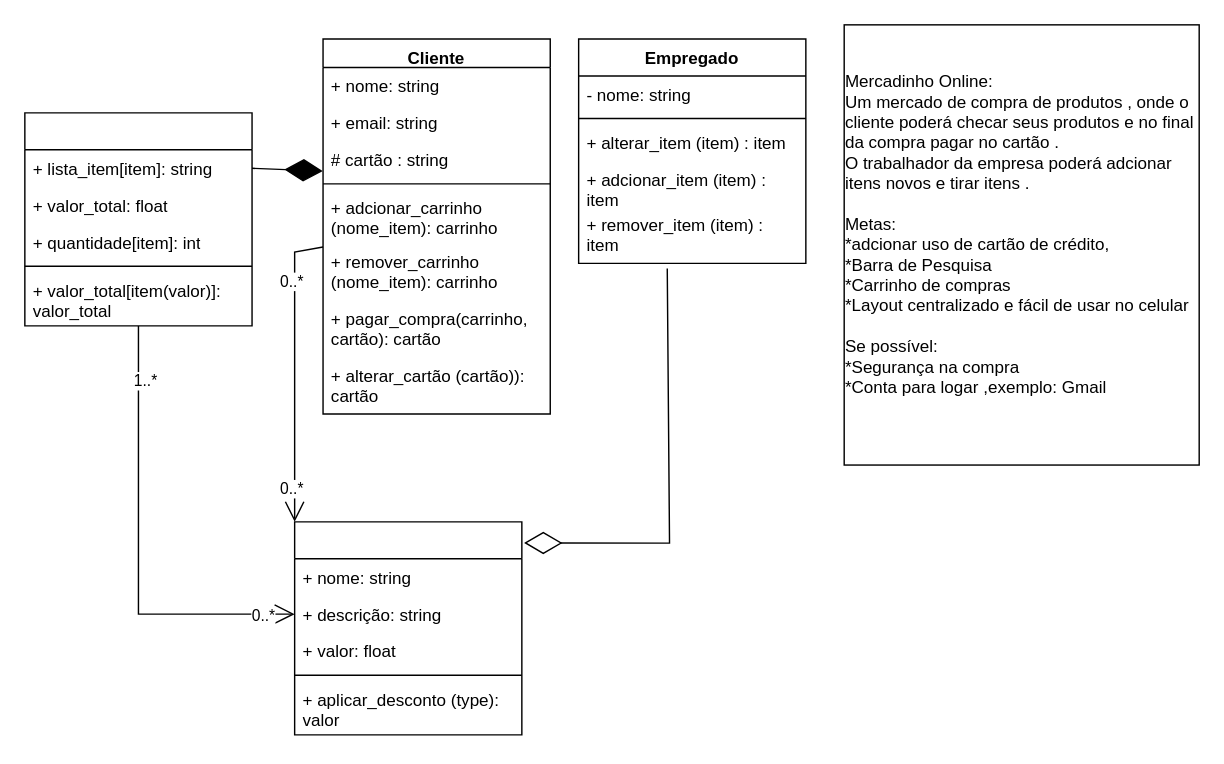
The diagram is 1224 pixels wide and 764 high, and some of its shapes have lost their labels. The box of each missing label's shape, as (x1, y1, x2, y2) in pixels:
Carrinho: (23, 111, 252, 326)
Item: (293, 520, 522, 735)
